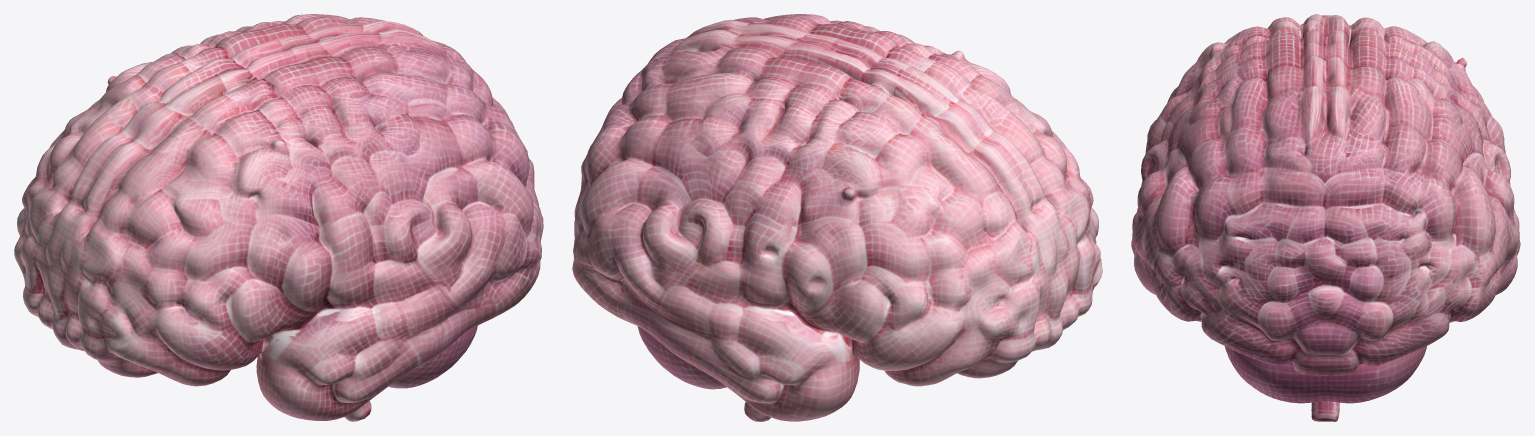
Rendered from human_brain.glb.
3 renders of one model, left to right at view 1: azimuth 30°, elevation 25°; view 2: azimuth 150°, elevation 25°; view 3: azimuth 270°, elevation 25°, orthographic. The views are drawn at different scales.
Parts seen in each view (by area): view 1: geometry_0; view 2: geometry_0; view 3: geometry_0.
Part boxes in pixels (x1,y1,x2,y2): geometry_0: (14,14,543,421); geometry_0: (572,14,1102,421); geometry_0: (1131,14,1520,421).
Size of the model in its own units: 1.87 by 1.52 by 1.53.
Materials: 1 (1 with a texture image).
